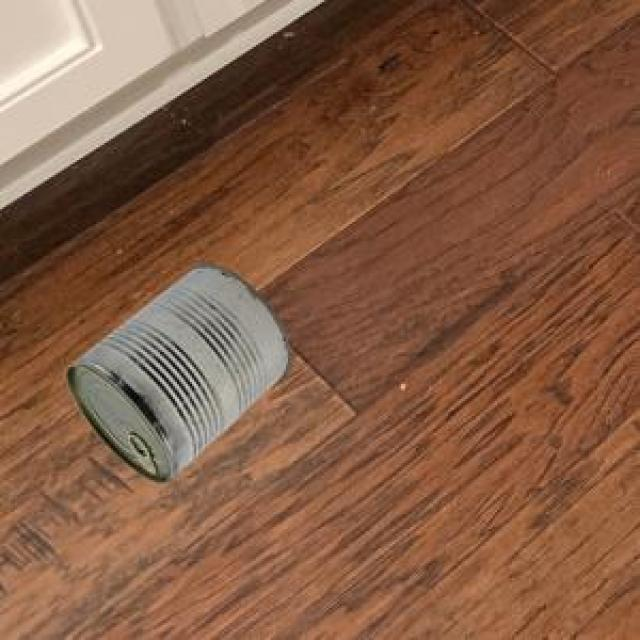Can: (63, 261, 287, 479)
